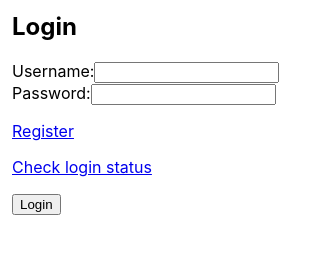
Test: Authentication Workflow › should display an error message for empty credentials
Click the submit button: (37, 205) x1=12 y1=194 x2=61 y2=215
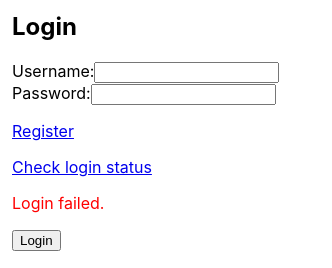
Check: the text "Login failed." is shown, box x1=12 y1=193 x2=104 y2=213
